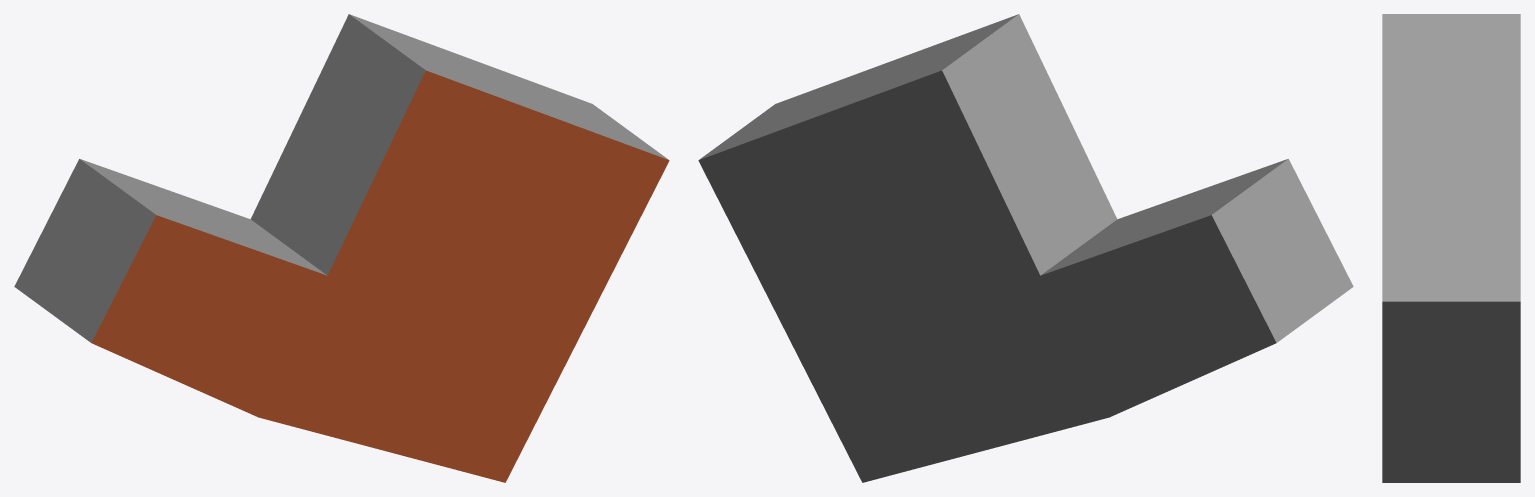
Rendered from construction_4890_assumed_A_Casa_h6m.obj.
3 views of the same model, side by side, from view 1: azimuth 30°, elevation 25°; view 2: azimuth 150°, elevation 25°; view 3: azimuth 270°, elevation 25° (orthographic). The views are drawn at different scales.
Parts seen in each view (by area): view 1: construction_4890_assumed_A_Casa; view 2: construction_4890_assumed_A_Casa; view 3: construction_4890_assumed_A_Casa.
Boxes of the visible parts, x1,y1,x2,y2 form: construction_4890_assumed_A_Casa: (14,14,669,482); construction_4890_assumed_A_Casa: (698,14,1353,482); construction_4890_assumed_A_Casa: (1382,14,1520,482).
Bounding box in the file's own units: 26 × 18.56 × 6.
